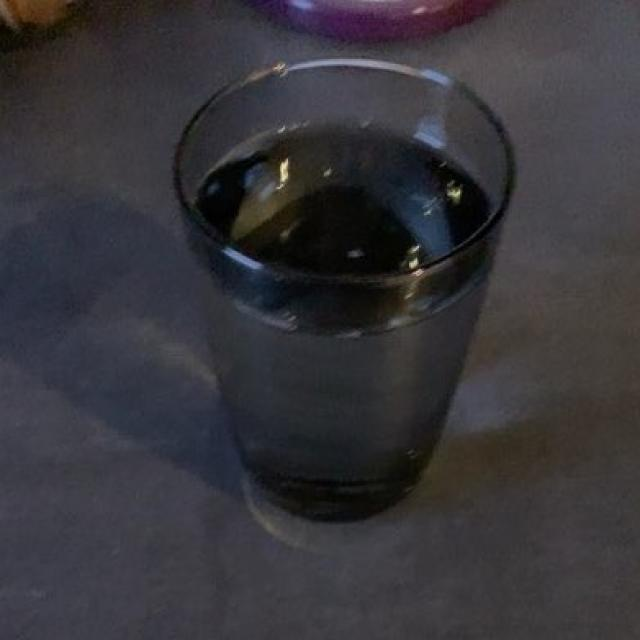water: (201, 130, 484, 272)
